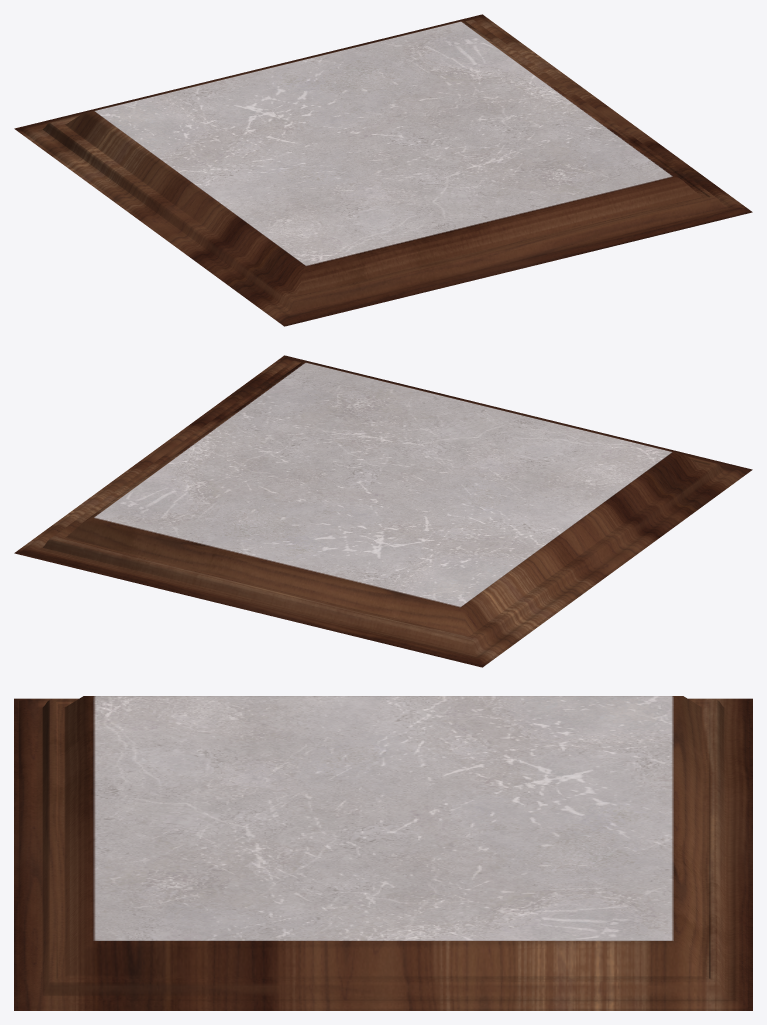
The model's file is Ceilling_B.fbx.
3 renders of one model, top to bottom at view 1: azimuth 30°, elevation 25°; view 2: azimuth 150°, elevation 25°; view 3: azimuth 270°, elevation 25°, orthographic. The views are drawn at different scales.
Parts seen in each view (by area): view 1: MOD_Ceiling_B_Low; view 2: MOD_Ceiling_B_Low; view 3: MOD_Ceiling_B_Low.
Part boxes in pixels (x1,y1,x2,y2): MOD_Ceiling_B_Low: (14, 14, 752, 326); MOD_Ceiling_B_Low: (14, 355, 752, 667); MOD_Ceiling_B_Low: (14, 696, 752, 1010).
Size of the model in its own units: 400 by 21.8 by 400.
Materials: 1 (1 with a texture image).
